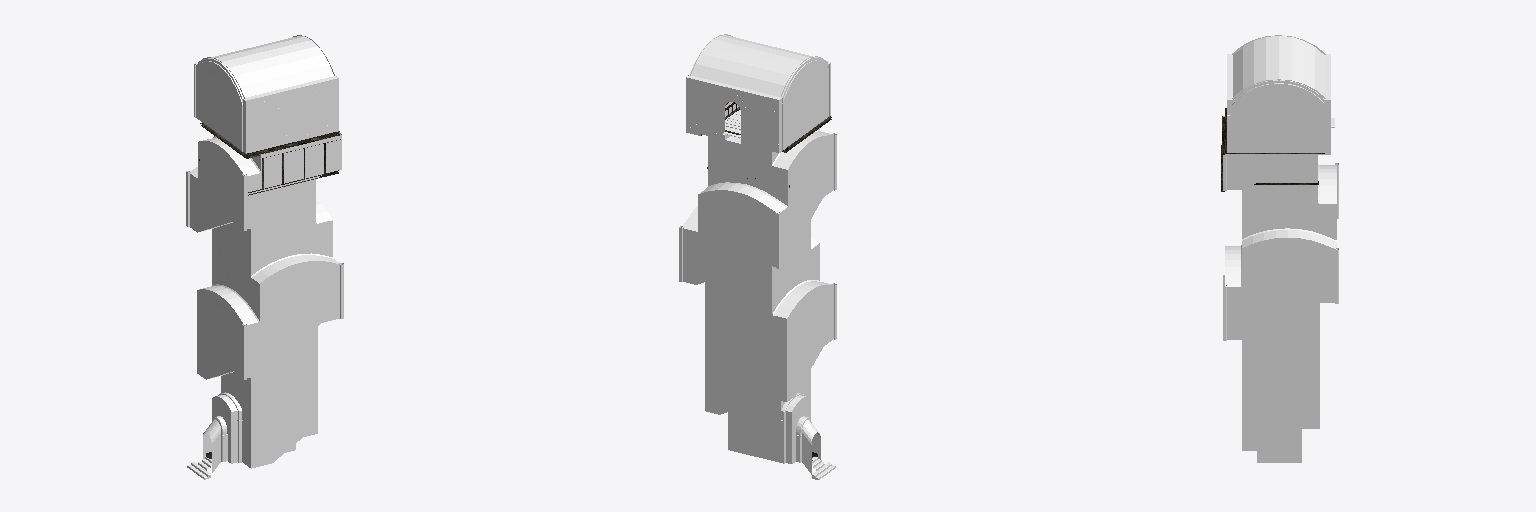
3 renders of one model, left to right at view 1: azimuth 30°, elevation 25°; view 2: azimuth 150°, elevation 25°; view 3: azimuth 270°, elevation 25°, orthographic.
Visible parts, largest first — view 1: mesh8, mesh4, mesh2; view 2: mesh8, mesh4; view 3: mesh8, mesh4.
Boxes of the visible parts, <box> form: mesh8: <box>190,36,340,472</box>; mesh4: <box>186,35,343,462</box>; mesh2: <box>199,122,340,195</box>; mesh8: <box>682,35,833,474</box>; mesh4: <box>679,34,836,463</box>; mesh8: <box>1223,35,1336,462</box>; mesh4: <box>1223,35,1338,340</box>.
Size of the model in its own units: 12.1 by 39.31 by 10.28.
10 materials, 3 textured.